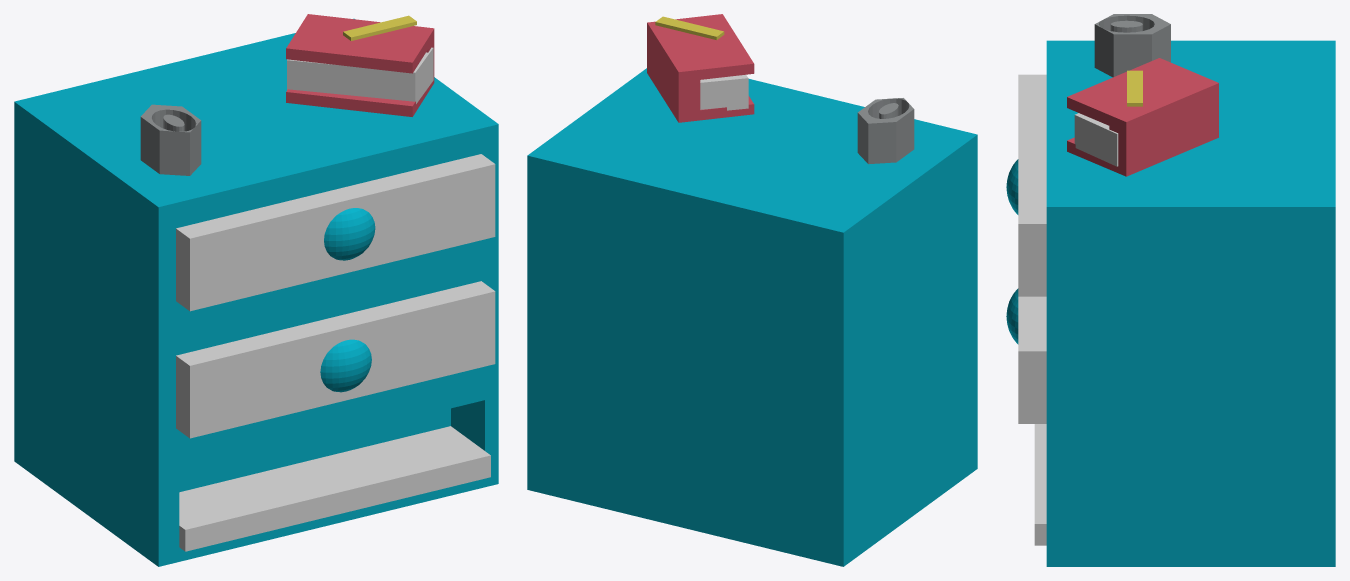
File: Amazing Tumelo.glb
3 renders of one model, left to right at view 1: azimuth 30°, elevation 25°; view 2: azimuth 150°, elevation 25°; view 3: azimuth 270°, elevation 25°, orthographic. The views are drawn at different scales.
Parts seen in each view (by area): view 1: Mesh_Mesh_head_geo.001_lambert2SG.001; view 2: Mesh_Mesh_head_geo.001_lambert2SG.001; view 3: Mesh_Mesh_head_geo.001_lambert2SG.001.
Boxes of the visible parts, bbox=[...] form: Mesh_Mesh_head_geo.001_lambert2SG.001: bbox=[14, 14, 498, 566]; Mesh_Mesh_head_geo.001_lambert2SG.001: bbox=[527, 14, 977, 566]; Mesh_Mesh_head_geo.001_lambert2SG.001: bbox=[1006, 14, 1335, 566].
Bounding box in the file's own units: 98 × 122 × 82.
